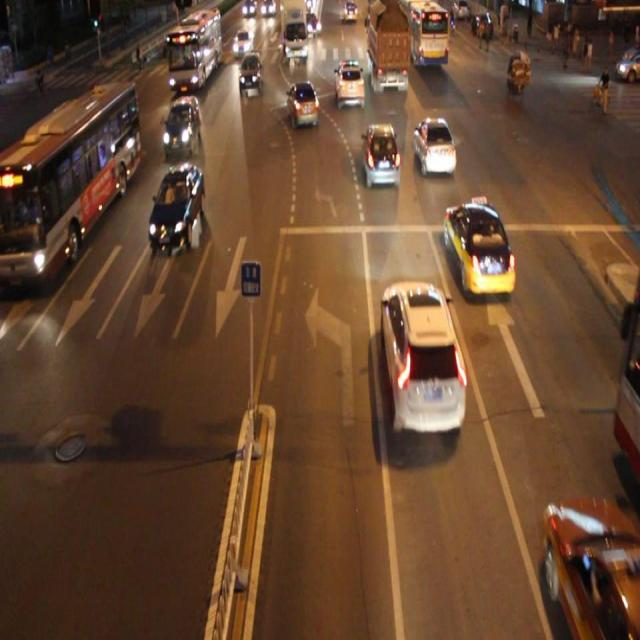car: (543, 496, 639, 640), (381, 279, 465, 433), (445, 203, 513, 294), (150, 162, 206, 248), (361, 122, 401, 187), (413, 118, 456, 176), (164, 95, 201, 157), (287, 79, 318, 128), (334, 61, 365, 110), (238, 54, 264, 94)
van: (0, 84, 136, 290), (166, 8, 221, 92)
